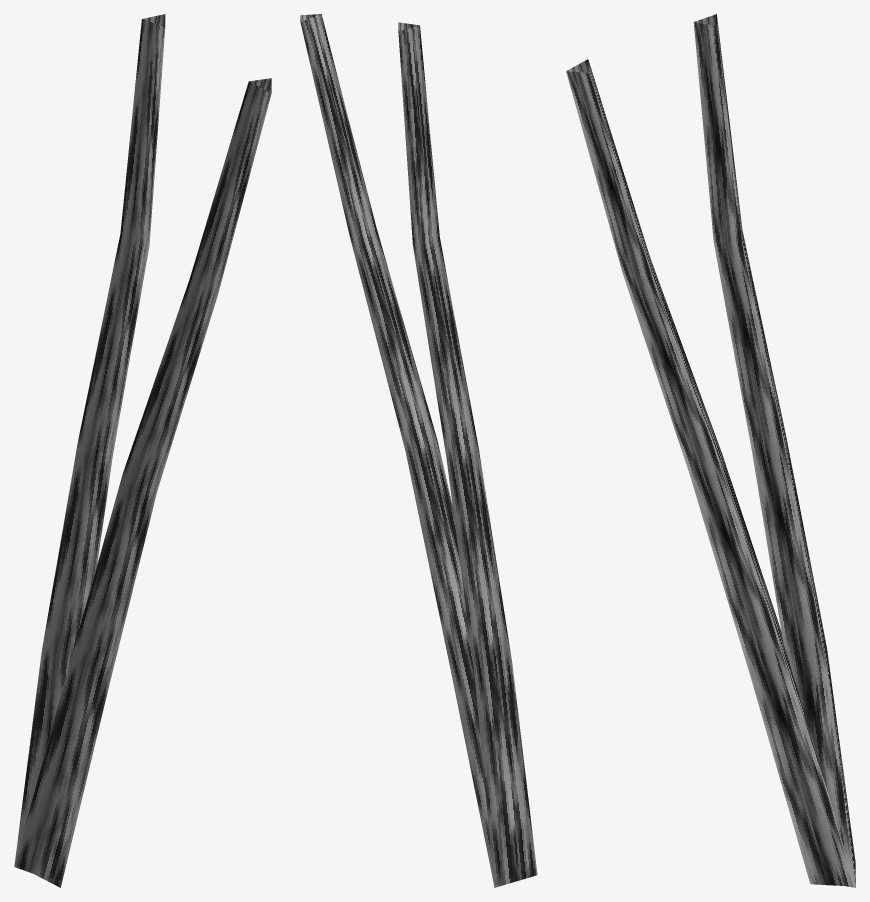
File: acacia_bark_l2.gltf
The picture shows the model from 3 angles, left to right: view 1: azimuth 30°, elevation 25°; view 2: azimuth 210°, elevation 25°; view 3: azimuth 270°, elevation 25°; orthographic projection. The views are drawn at different scales.
Parts seen in each view (by area): view 1: acacia_bark_l2; view 2: acacia_bark_l2; view 3: acacia_bark_l2.
Boxes of the visible parts, <box> form: acacia_bark_l2: <box>14,14,271,887</box>; acacia_bark_l2: <box>300,14,537,887</box>; acacia_bark_l2: <box>566,14,855,887</box>.
Size of the model in its own units: 0.8223 by 5.73 by 1.7.
Materials: 1 (1 with a texture image).
